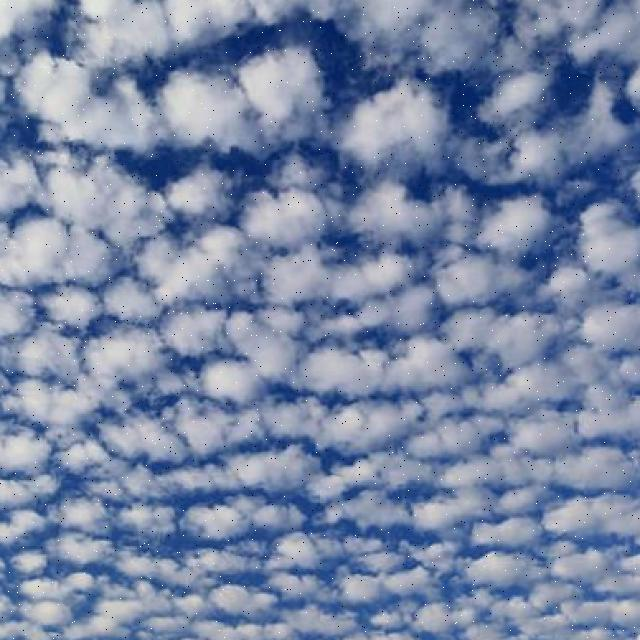Ac: (1, 12, 607, 601)
